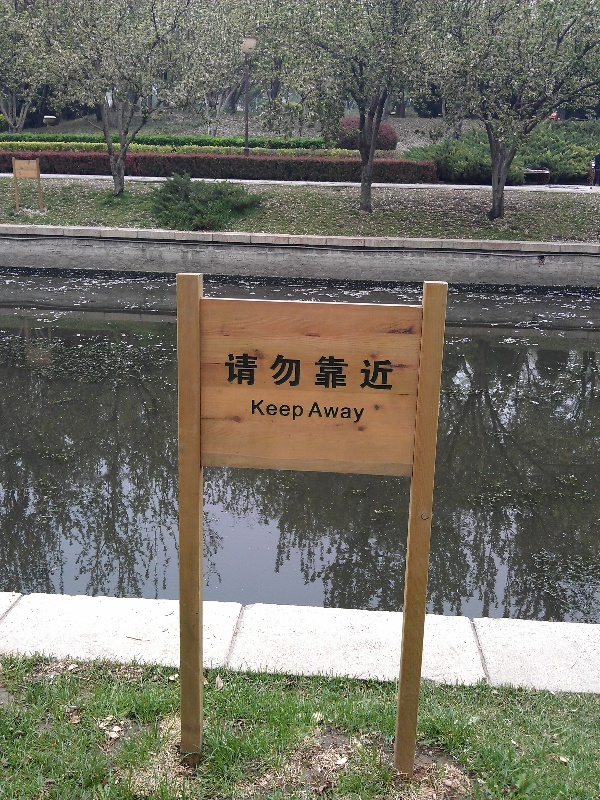text: (225, 352, 240, 392), (241, 352, 256, 392), (257, 352, 272, 392), (273, 352, 288, 392), (289, 352, 304, 392), (305, 352, 320, 392), (321, 352, 336, 392), (337, 352, 352, 392), (353, 352, 368, 392), (369, 352, 384, 392), (289, 400, 305, 422), (321, 401, 336, 424), (337, 401, 352, 424), (257, 400, 272, 422), (273, 400, 288, 422), (385, 352, 393, 392), (353, 401, 366, 424), (309, 401, 320, 424), (250, 400, 256, 422)
